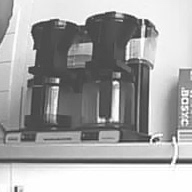not empty coffee: (22, 75, 76, 133)
